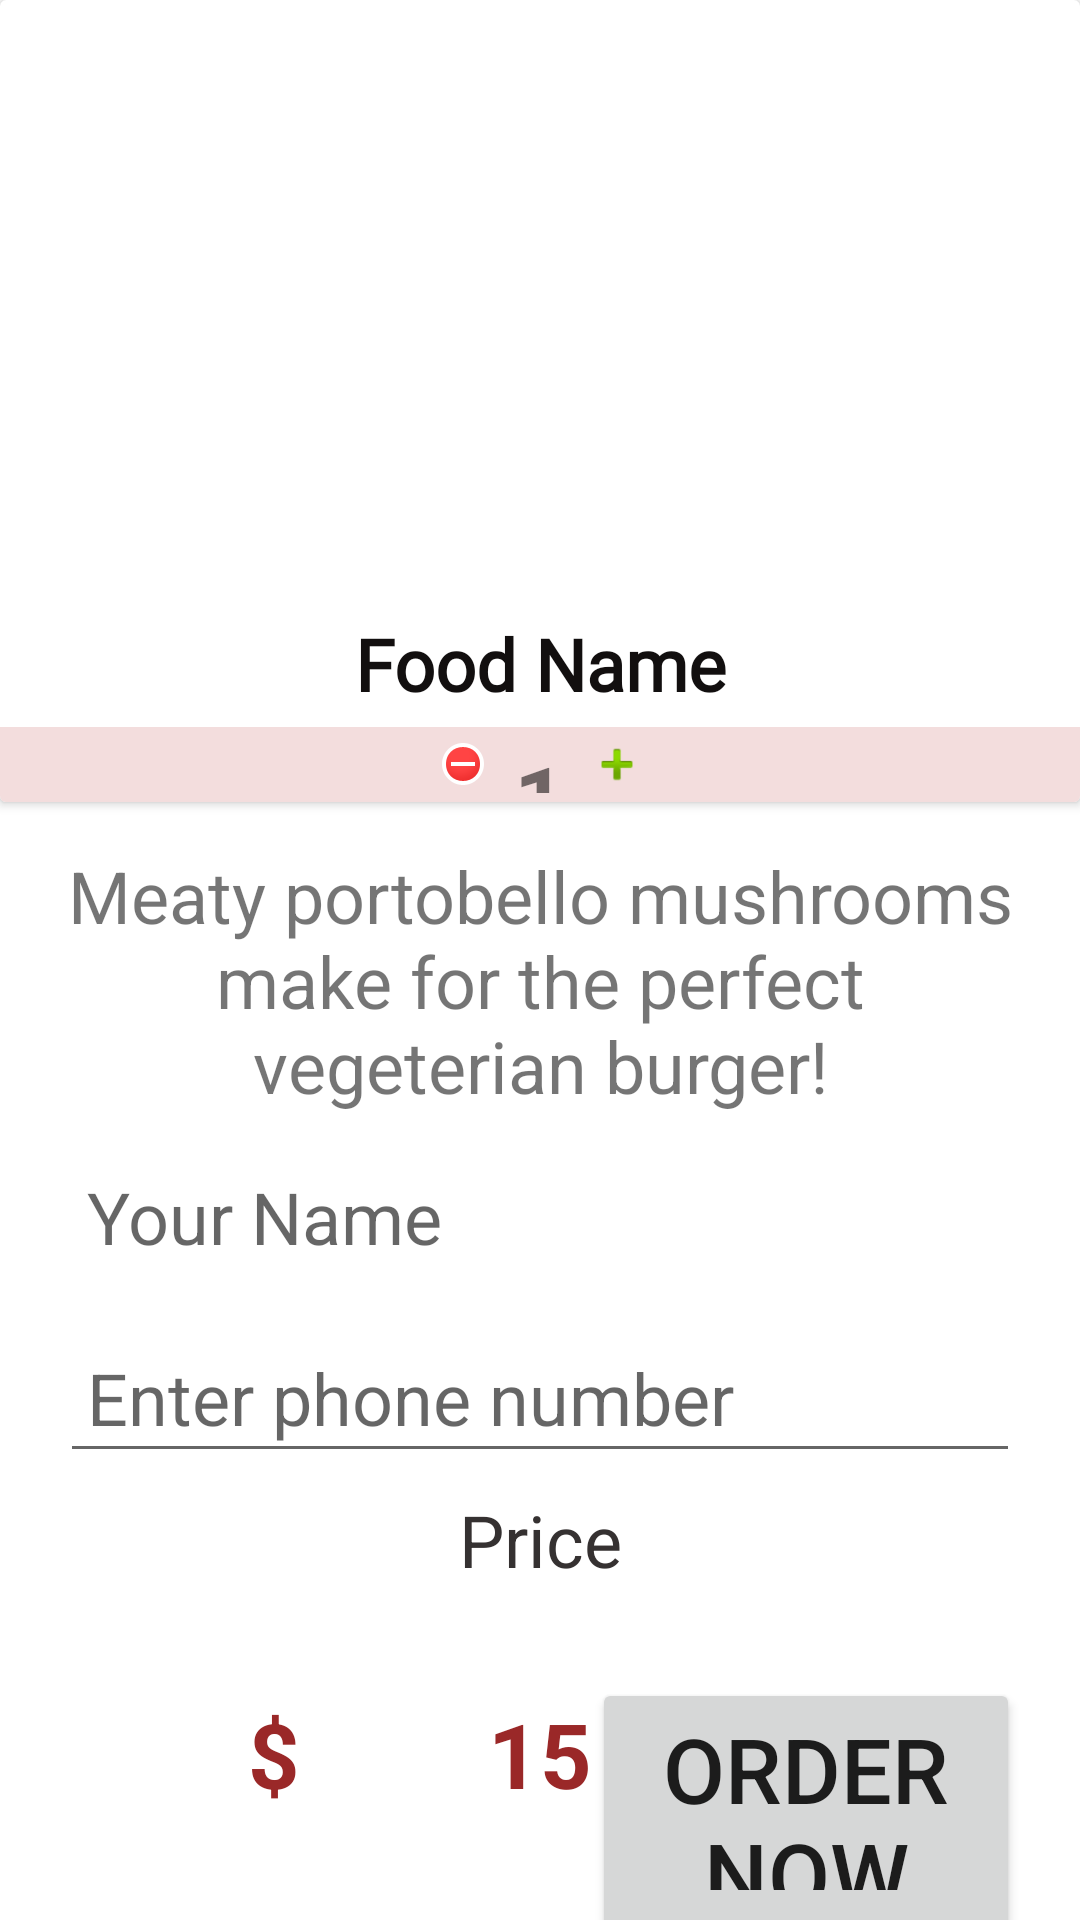

Named icons in this screenshot (1080×1920) and their bounding boxes, BBox(x1, y1, x2, y2):
add: BBox(601, 748, 633, 781)
presence busy: BBox(442, 743, 484, 785)
